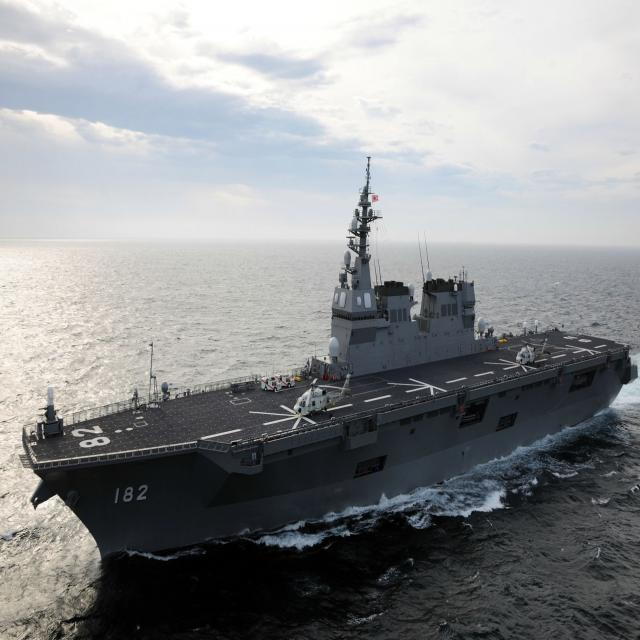Portanaves: (19, 150, 640, 585)
